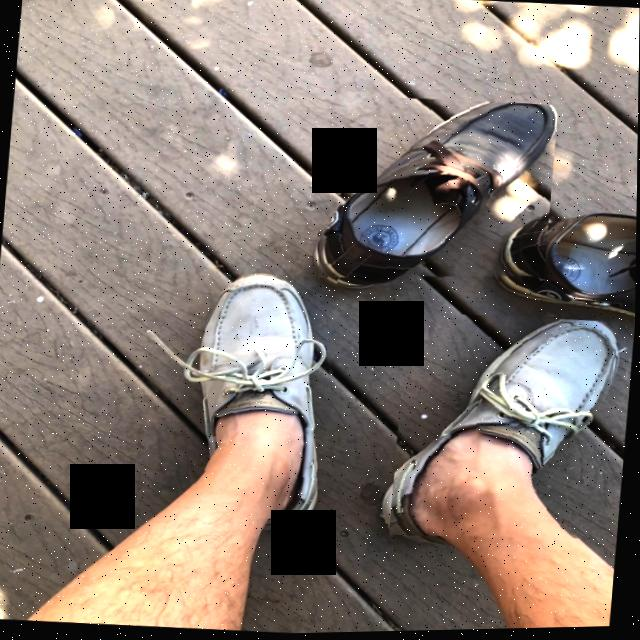shoe: (392, 321, 618, 538), (318, 104, 558, 279), (205, 272, 322, 521)
